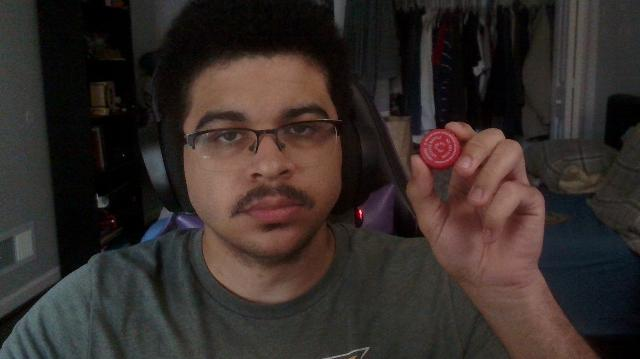cap: (420, 128, 462, 172)
